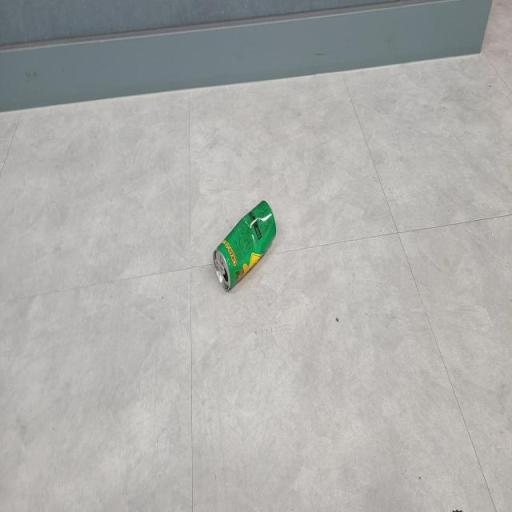metal: (206, 188, 282, 308)
